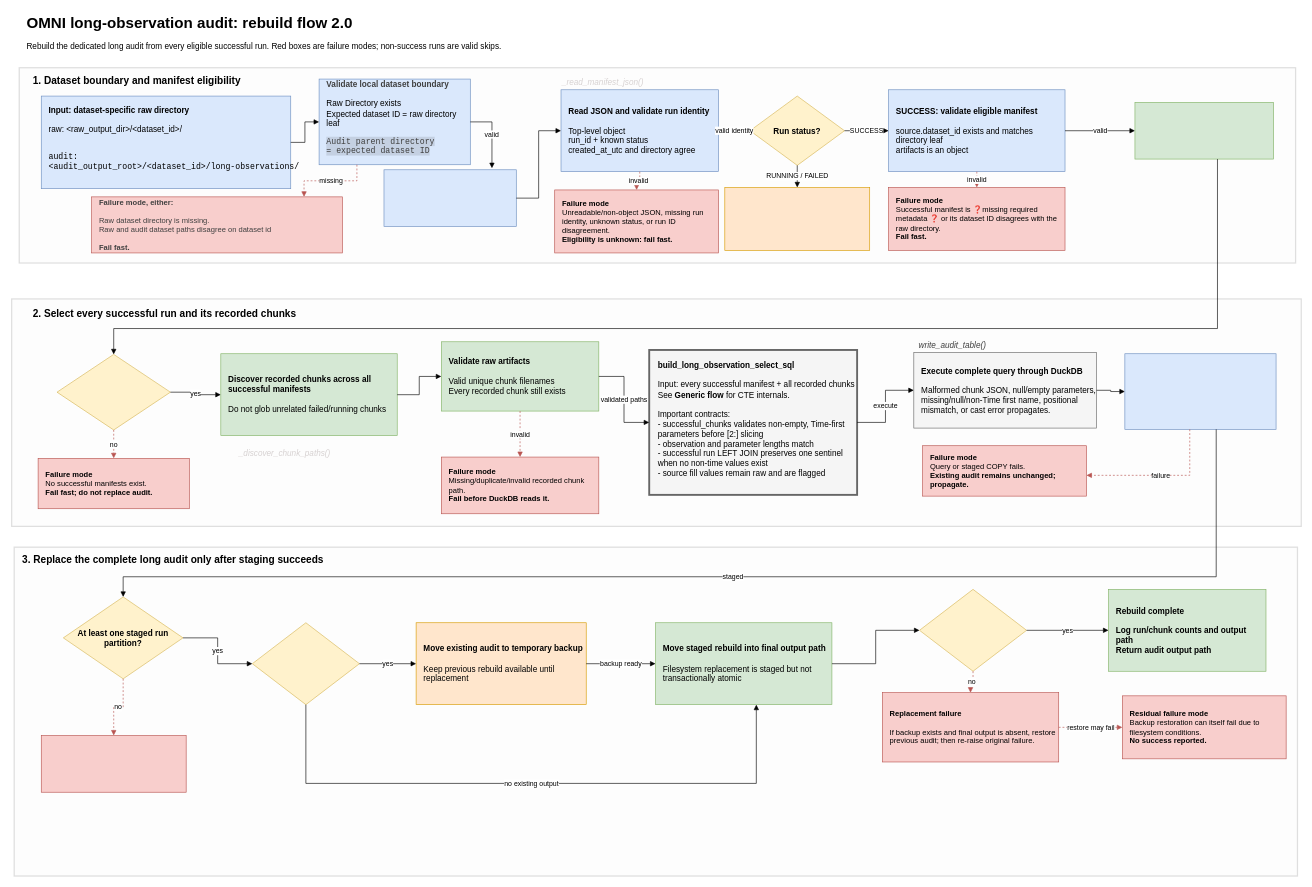
This 1312x887 diagram has some shape labels left out. The shapes that lost their labels are listed below. From the top down, each one's box as (x1, y1, x2, y2) in pixels, then its label:
(1134, 102, 1274, 159): All successful manifest paths Validated and ordered by run ID
(383, 169, 516, 226): Discover candidate manifests run_id=*/_manifest.json
(724, 187, 870, 250): RUNNING or FAILED Skip run. Do not require source or artifact keys/metadata.
(56, 354, 170, 430): Any successful manifests?
(1124, 353, 1276, 429): Stage complete rebuild Temporary sibling directory Parquet PARTITION_BY(run_id)
(919, 589, 1027, 671): Replacement succeeded?
(252, 622, 359, 705): Existing audit present?
(41, 735, 186, 792): Failure mode Staged query produced no run partitions. Fail before replacement.
